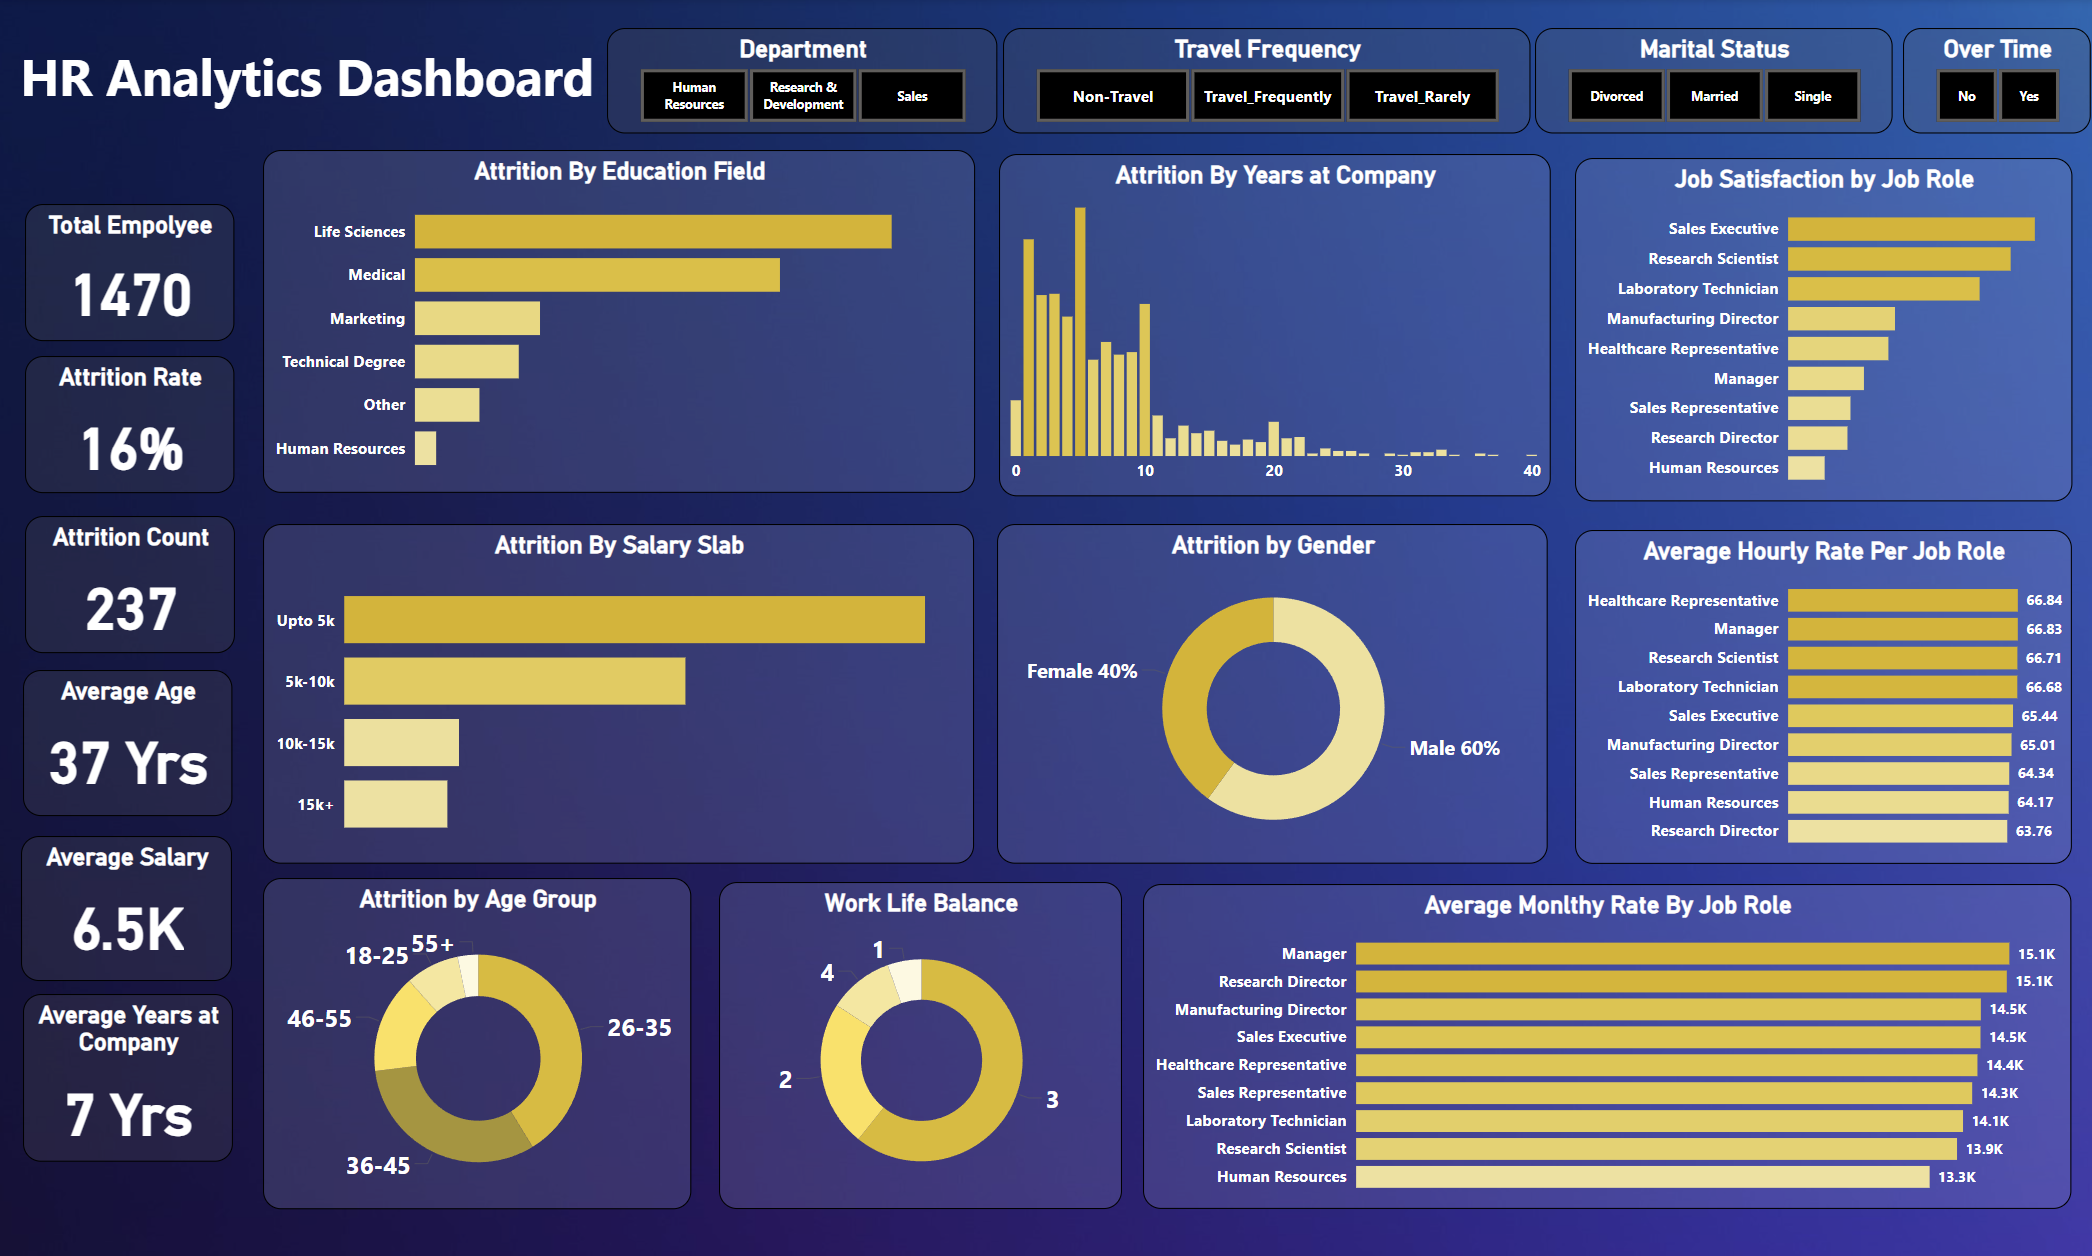

The page's visual inventory and layout, read from the dashboard file:
{"tool":"powerbi","page":{"name":"Page 1","canvas":[2000,1200],"ordinal":0},"visuals":[{"type":"card","title":"Total Empolyee","fields":{"Values":["HR_Analytics.Total Employee Count"]},"box":[29.5,195.9,198.3,130],"z":0},{"type":"cardVisual","title":"Attrition Rate","fields":{"Data":["HR_Analytics.Attrition Rate"]},"box":[30.3,340.1,198.3,130],"z":1000},{"type":"textbox","box":[20,36,572,86],"z":2000},{"type":"cardVisual","title":"Attrition Count","fields":{"Data":["HR_Analytics.Attrition Count"]},"box":[29.5,490.5,199,130],"z":3000},{"type":"cardVisual","title":"Average Age","fields":{"Data":["HR_Analytics.Avg_Age"]},"box":[29.3,637.5,198.3,138.3],"z":4000},{"type":"cardVisual","title":"Average Salary","fields":{"Data":["HR_Analytics.Avg_Salary"]},"box":[27.3,794.4,200,137.5],"z":5000},{"type":"cardVisual","title":"Average Years at Company","fields":{"Data":["HR_Analytics.Avg_years"]},"box":[29.4,944.7,198.8,158.8],"z":6000},{"type":"clusteredBarChart","title":"Attrition By Education Field","fields":{"Category":["HR_Analytics.EducationField"],"Y":["CountNonNull(HR_Analytics.Attrition)"]},"box":[255,145,675,325],"z":7000},{"type":"clusteredBarChart","title":"Attrition By Salary Slab","fields":{"Category":["HR_Analytics.SalarySlab"],"Y":["CountNonNull(HR_Analytics.Attrition)"]},"box":[256,498,674,322],"z":8000},{"type":"donutChart","title":"Attrition by Age Group","fields":{"Category":["HR_Analytics.AgeGroup"],"Y":["CountNonNull(HR_Analytics.Attrition)"]},"box":[256,834,406,314],"z":10000},{"type":"clusteredColumnChart","title":"Attrition By Years at Company","fields":{"Category":["HR_Analytics.YearsAtCompany"],"Y":["CountNonNull(HR_Analytics.Attrition)"]},"box":[952.9,147.1,522.9,324.3],"z":11000},{"type":"donutChart","title":"Attrition by Gender","fields":{"Category":["HR_Analytics.Gender"],"Y":["CountNonNull(HR_Analytics.Attrition)"]},"box":[952,498,522,322],"z":12000},{"type":"clusteredBarChart","title":"Job Satisfaction by Job Role","fields":{"Category":["HR_Analytics.JobRole"],"Y":["Sum(HR_Analytics.JobSatisfaction)"]},"box":[1500,151.4,471.4,325.7],"z":13000},{"type":"slicer","title":"Department","fields":{"Values":["HR_Analytics.Department"]},"box":[581.7,28.3,370,100],"z":14000},{"type":"slicer","title":"Travel Frequency","fields":{"Values":["HR_Analytics.BusinessTravel"]},"box":[956.7,28.3,500,100],"z":15000},{"type":"slicer","title":"Marital Status","fields":{"Values":["HR_Analytics.MaritalStatus"]},"box":[1461.2,28.8,338.8,100],"z":16000},{"type":"slicer","title":"Over Time","fields":{"Values":["HR_Analytics.OverTime"]},"box":[1810,29,178,100],"z":17000},{"type":"barChart","title":"Average Hourly Rate Per Job Role","fields":{"Category":["HR_Analytics.JobRole"],"Y":["Avg(HR_Analytics.HourlyRate)"]},"box":[1498.9,504.4,471.1,316.7],"z":18000},{"type":"donutChart","title":"Work Life Balance","fields":{"Category":["HR_Analytics.WorkLifeBalance"],"Y":["HR_Analytics.Total Employee Count"]},"box":[688,838,382,310],"z":19000},{"type":"clusteredBarChart","title":"Average Monlthy Rate By Job Role","fields":{"Category":["HR_Analytics.JobRole"],"Y":["Avg(HR_Analytics.MonthlyRate)"]},"box":[1090,840,880,308],"z":20000}]}

Visuals, with their boxes in screenshot pixels (x1, y1, x2, y2), scaled from the page's 2000x1200 canvas onto the 2092x1256 screenshot:
"Total Empolyee" card: BBox(31, 205, 238, 341)
"Attrition Rate" cardVisual: BBox(32, 356, 239, 492)
textbox: BBox(21, 38, 619, 128)
"Attrition Count" cardVisual: BBox(31, 513, 239, 649)
"Average Age" cardVisual: BBox(31, 667, 238, 812)
"Average Salary" cardVisual: BBox(29, 831, 238, 975)
"Average Years at Company" cardVisual: BBox(31, 989, 239, 1155)
"Attrition By Education Field" clusteredBarChart: BBox(267, 152, 973, 492)
"Attrition By Salary Slab" clusteredBarChart: BBox(268, 521, 973, 858)
"Attrition by Age Group" donutChart: BBox(268, 873, 692, 1202)
"Attrition By Years at Company" clusteredColumnChart: BBox(997, 154, 1544, 493)
"Attrition by Gender" donutChart: BBox(996, 521, 1542, 858)
"Job Satisfaction by Job Role" clusteredBarChart: BBox(1569, 158, 2062, 499)
"Department" slicer: BBox(608, 30, 995, 134)
"Travel Frequency" slicer: BBox(1001, 30, 1524, 134)
"Marital Status" slicer: BBox(1528, 30, 1883, 135)
"Over Time" slicer: BBox(1893, 30, 2079, 135)
"Average Hourly Rate Per Job Role" barChart: BBox(1568, 528, 2061, 859)
"Work Life Balance" donutChart: BBox(720, 877, 1119, 1202)
"Average Monlthy Rate By Job Role" clusteredBarChart: BBox(1140, 879, 2061, 1202)
